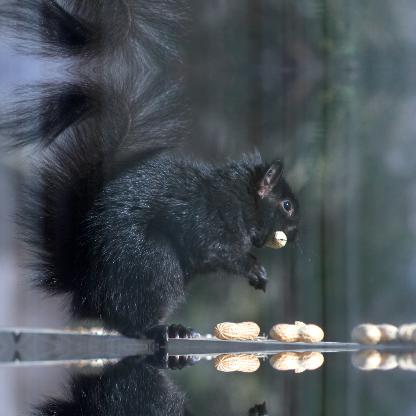Squirrel: (0, 69, 320, 344), (0, 0, 321, 70), (0, 348, 321, 415)
